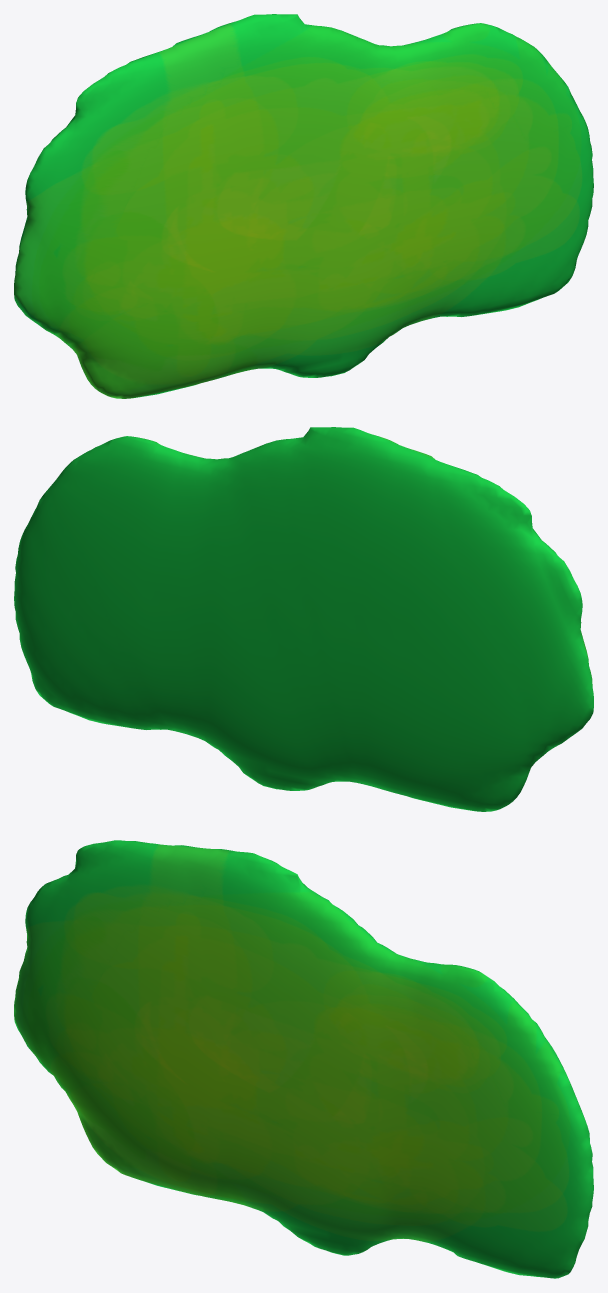
File: Ground.fbx
3 renders of one model, top to bottom at view 1: azimuth 30°, elevation 25°; view 2: azimuth 150°, elevation 25°; view 3: azimuth 330°, elevation 25°, orthographic.
Visible parts, largest first — view 1: root; view 2: root; view 3: root.
Boxes of the visible parts, <box> form: root: <box>14,14,593,398</box>; root: <box>14,427,593,811</box>; root: <box>14,840,593,1278</box>.
Bounding box in the file's own units: 1.1 × 0.6895 × 0.0924.
Materials: 1 (1 with a texture image).
